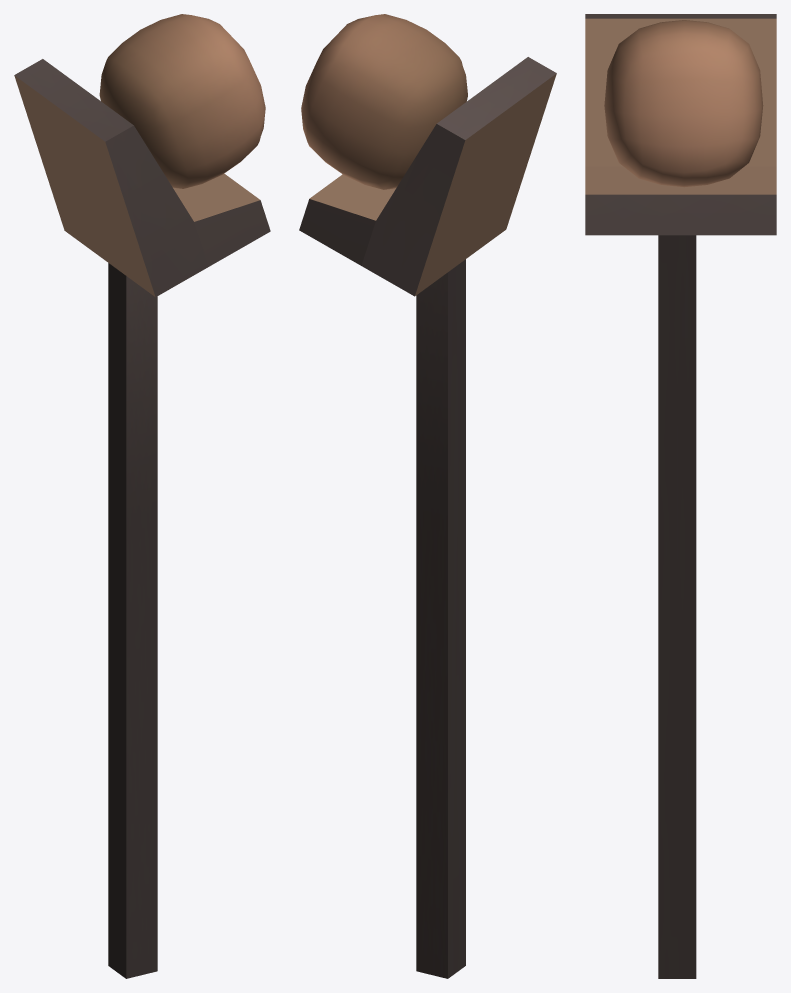
Rendered from Barrier_Ball.fbx.
The picture shows the model from 3 angles, left to right: view 1: azimuth 30°, elevation 25°; view 2: azimuth 150°, elevation 25°; view 3: azimuth 270°, elevation 25°; orthographic projection. The views are drawn at different scales.
Parts seen in each view (by area): view 1: base_bs, stone; view 2: base_bs, stone; view 3: base_bs, stone.
Boxes of the visible parts, bbox=[...] form: base_bs: bbox=[14, 59, 270, 978]; stone: bbox=[99, 14, 265, 188]; base_bs: bbox=[299, 57, 556, 978]; stone: bbox=[301, 14, 467, 189]; base_bs: bbox=[585, 14, 776, 978]; stone: bbox=[604, 20, 763, 187].
Bounding box in the file's own units: 41.75 × 191 × 33.91.
